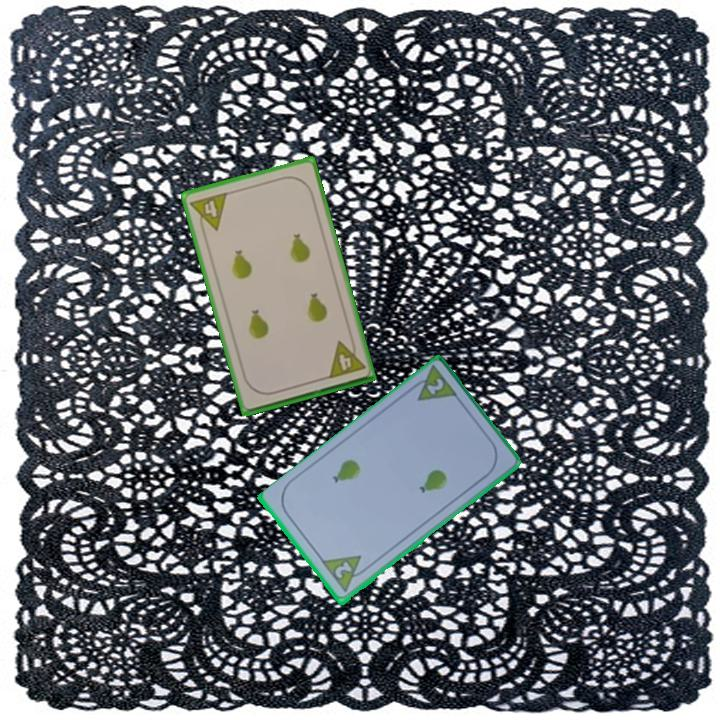2p: (319, 552, 372, 596), (423, 375, 447, 398)
4p: (187, 189, 230, 237), (324, 335, 368, 381)
